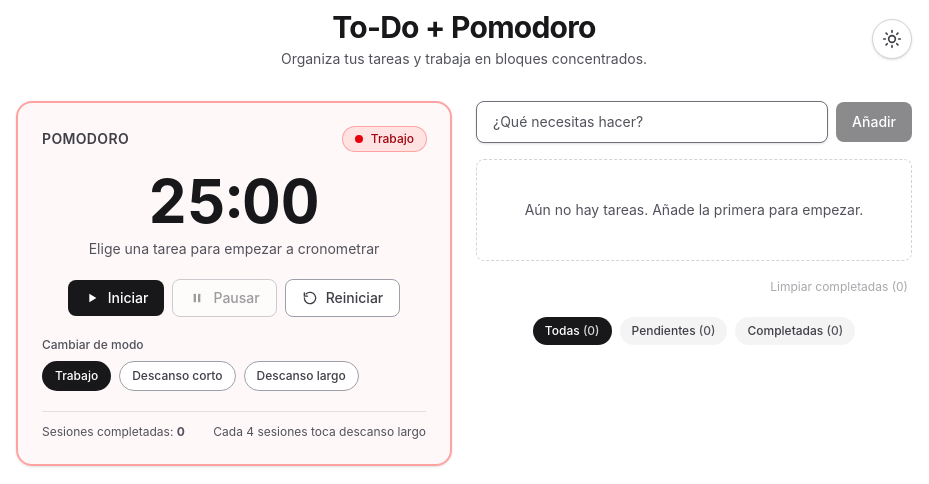
Test case: integración App: ToDo + Pomodoro › crea una tarea, la enlaza y el temporizador pasa a "Enfocado en: …"
Expected: the text "25:00" is shown, [148,165,320,237]
Expected: the text "Elige una tarea para empezar a cronometrar" is shown, [89,240,379,257]
Type "Preparar la demo" into the field named "Nueva tarea" at (652, 122), box [476,101,828,143]
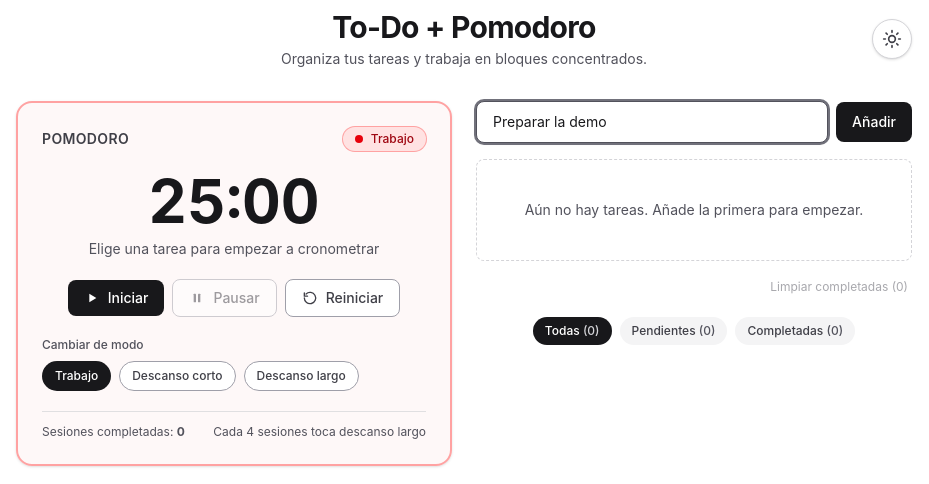
Click the button "Añadir" at (874, 122), box [836,102,912,142]
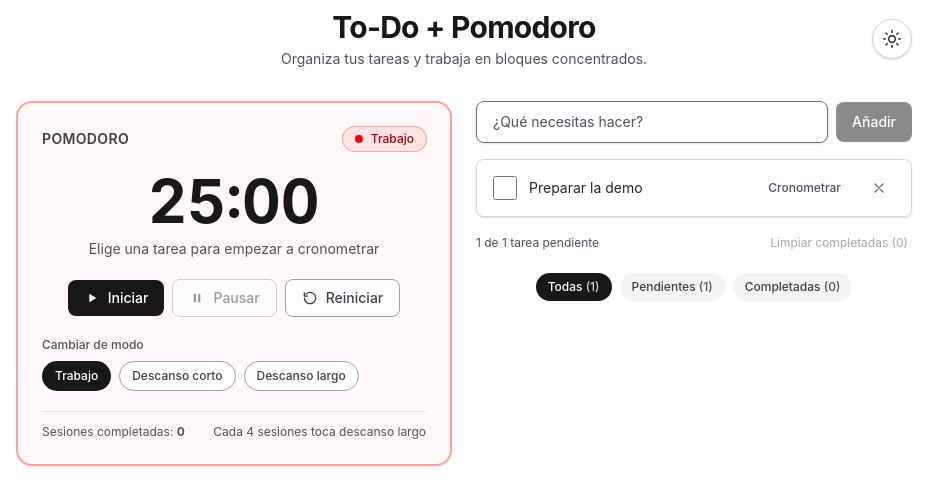
Expected: the text "Elige una tarea para empezar a cronometrar" is shown, [89,240,379,257]
Expected: the checkbox named "Marcar \"Preparar la demo\" como completada" is shown, [493,176,517,200]
Click the button "Cronometrar" at (805, 188), box [758,174,851,202]
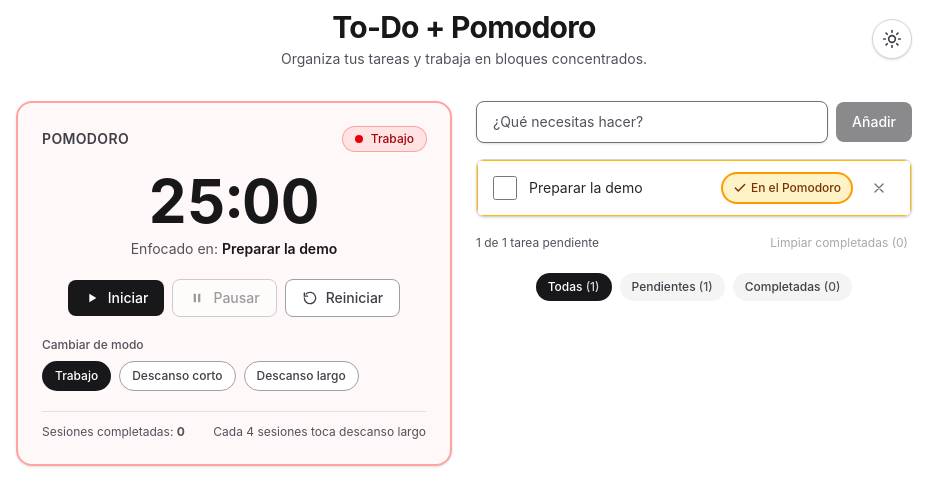
Expected: the text "Enfocado en: Preparar la demo" is shown, [131,240,337,257]
Expected: the text "Preparar la demo" is shown, [222,240,337,257]
Expected: the text "Elige una tarea para empezar a cronometrar" is gone
